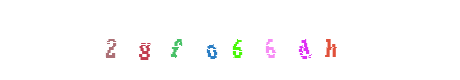2: (120, 0, 200, 80)
6: (192, 0, 272, 80), (197, 0, 277, 80)
D: (216, 0, 296, 80)
F: (172, 0, 252, 80)
G: (145, 0, 225, 80)
H: (264, 0, 344, 80)
O: (190, 0, 270, 80)
